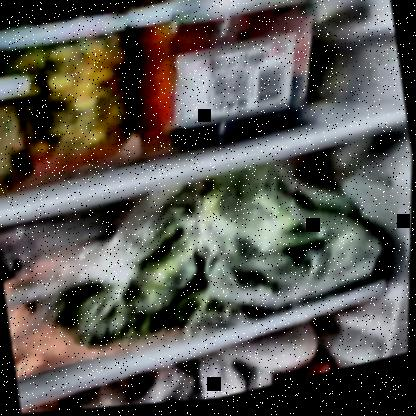lettuce: (48, 148, 392, 353)
